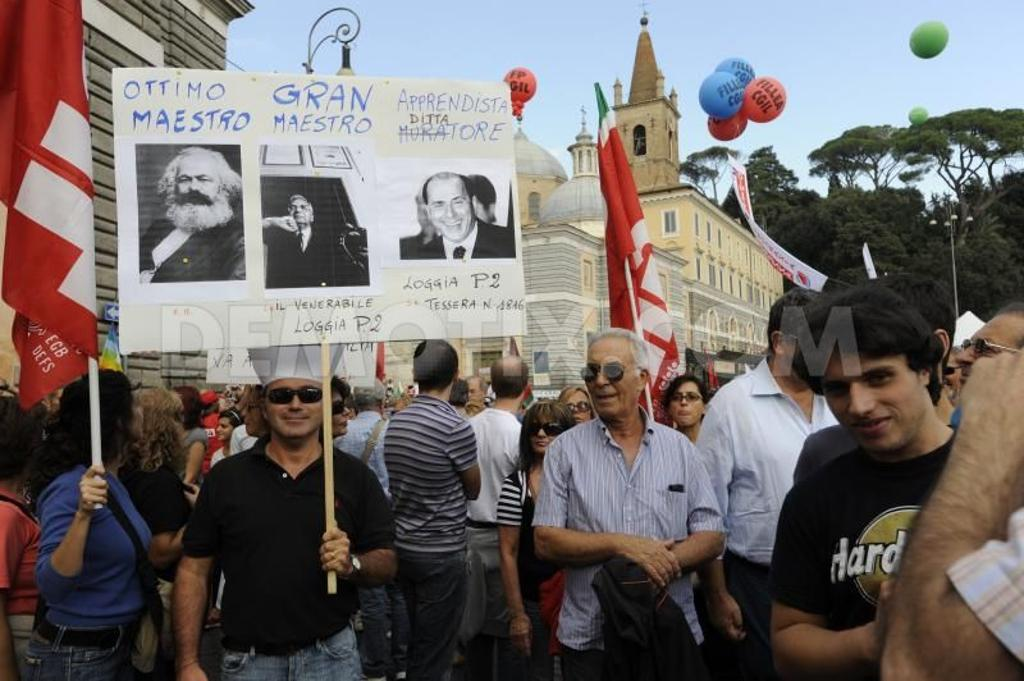face: (822, 355, 919, 452), (959, 309, 1024, 406), (586, 338, 638, 418), (268, 368, 324, 438), (176, 159, 221, 218), (428, 181, 469, 240), (671, 381, 703, 425), (118, 392, 145, 440), (242, 391, 267, 434), (531, 419, 562, 452), (939, 355, 965, 394), (566, 392, 591, 430), (328, 392, 350, 435), (418, 198, 438, 228), (290, 200, 311, 223), (216, 418, 236, 441), (54, 390, 71, 414), (466, 385, 484, 406), (336, 407, 357, 422)
